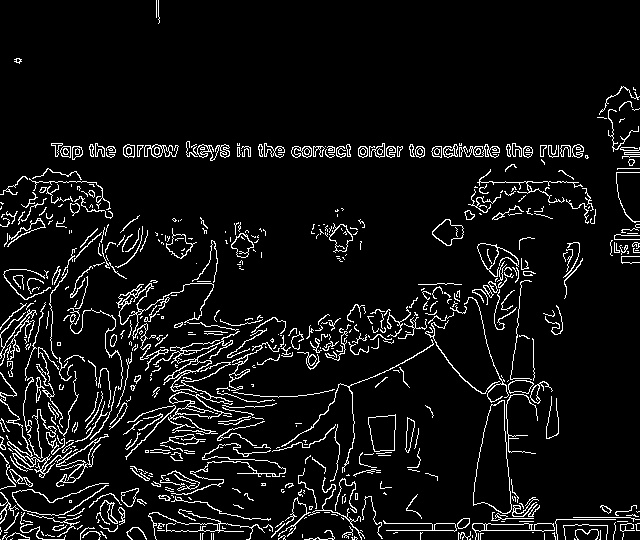down: (162, 229, 194, 264)
left: (424, 213, 468, 252)
up: (324, 221, 358, 261), (223, 230, 260, 265)
